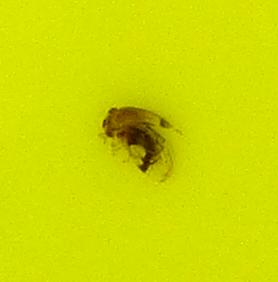Hemiptera: (100, 100, 178, 182)
